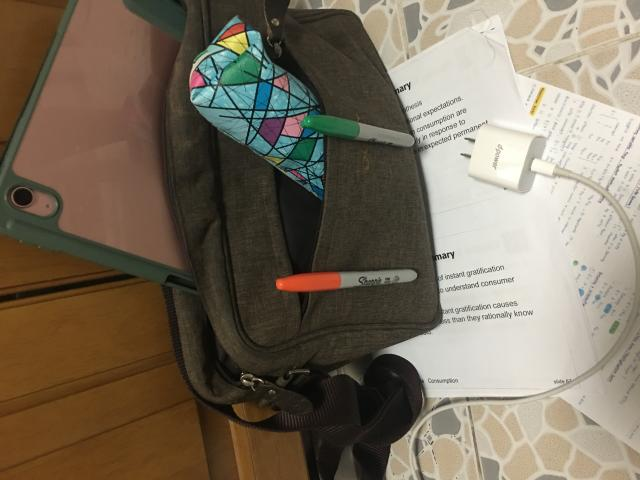Pen: (300, 115, 415, 148), (276, 269, 418, 291)
paper: (322, 16, 640, 453)
wire: (458, 124, 640, 336)
